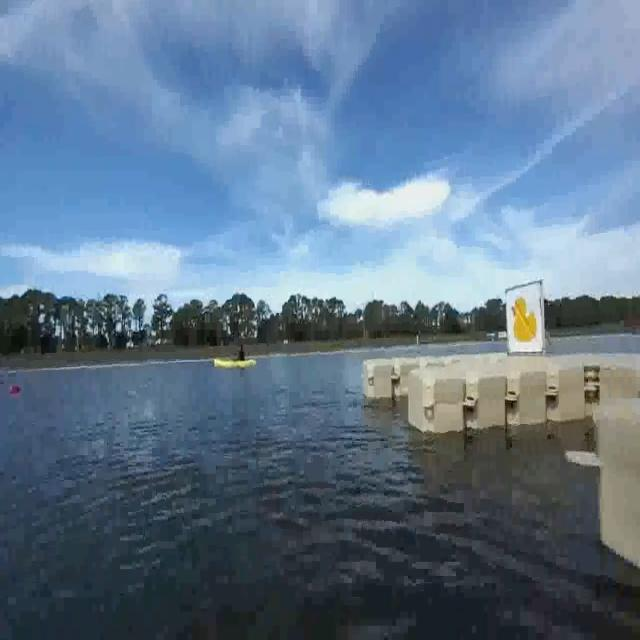yellow-duck: (506, 281, 545, 355)
